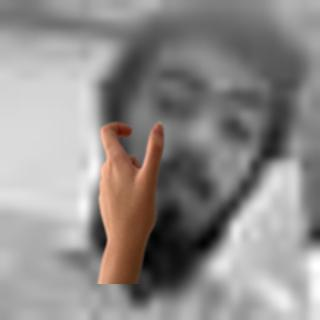HATE: (89, 117, 172, 282)
